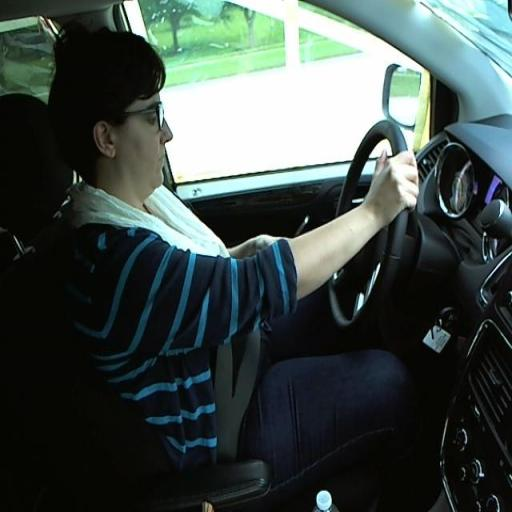texting_phone: (50, 42, 424, 424)
